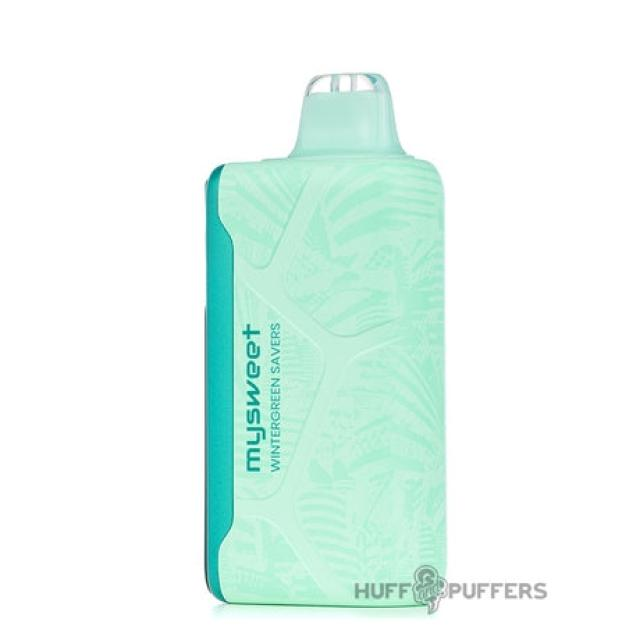Vape-images: (202, 70, 448, 610)
